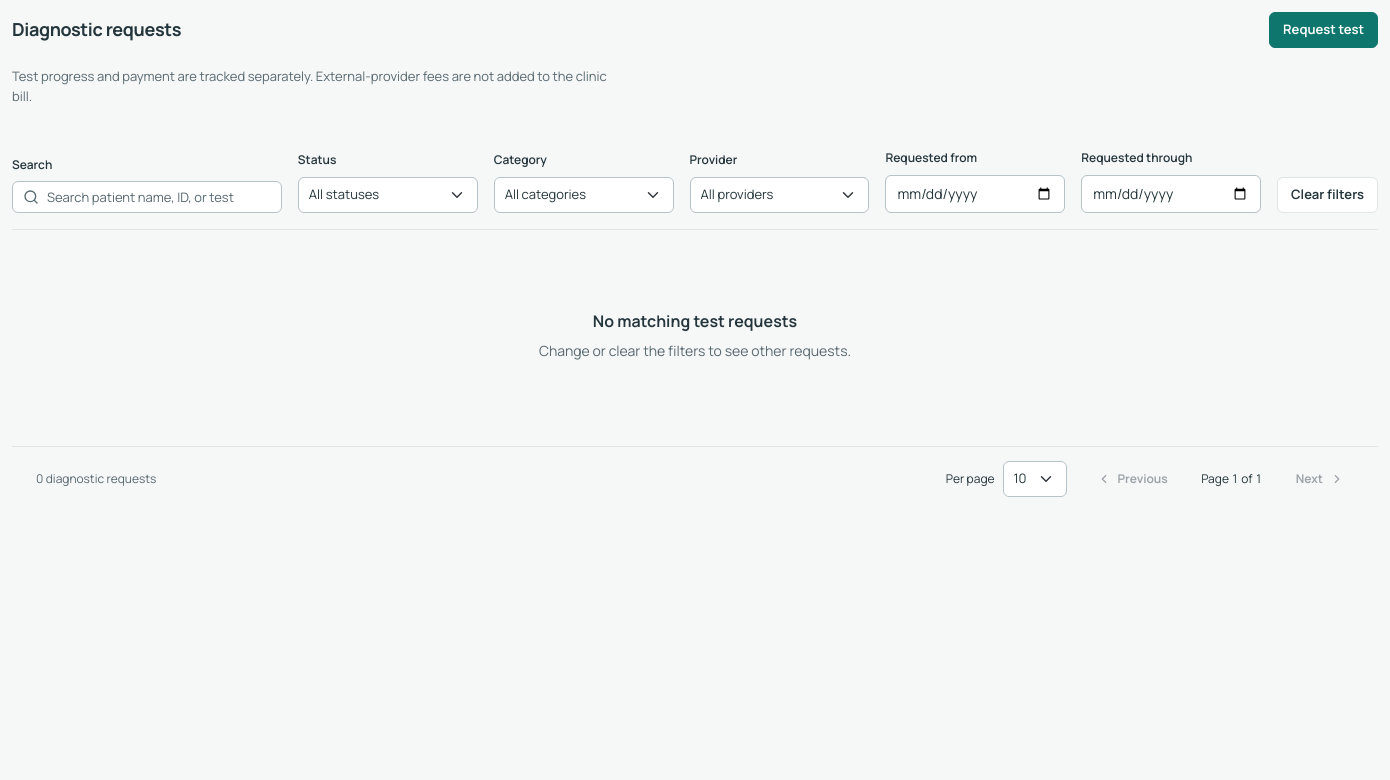
Test: shows a duplicate warning and restricts the repeat override for staff
The width and height of the screenshot is (1390, 780).
Click the button "Request test" at (1324, 30), box [1269,12,1378,48]
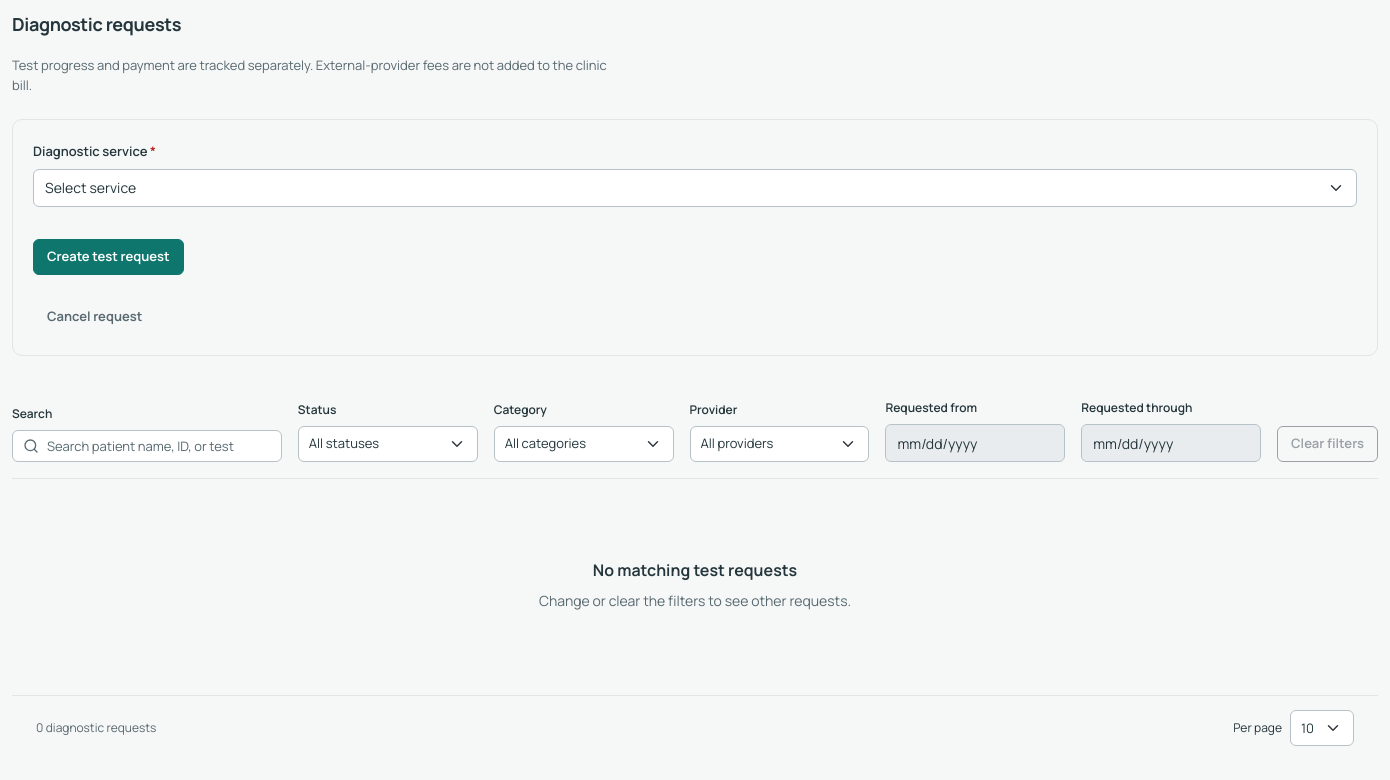
Select "Chest X-ray · ₱300.00" in the dropdown labelled "Diagnostic service *" at (695, 188), box [33,169,1357,207]
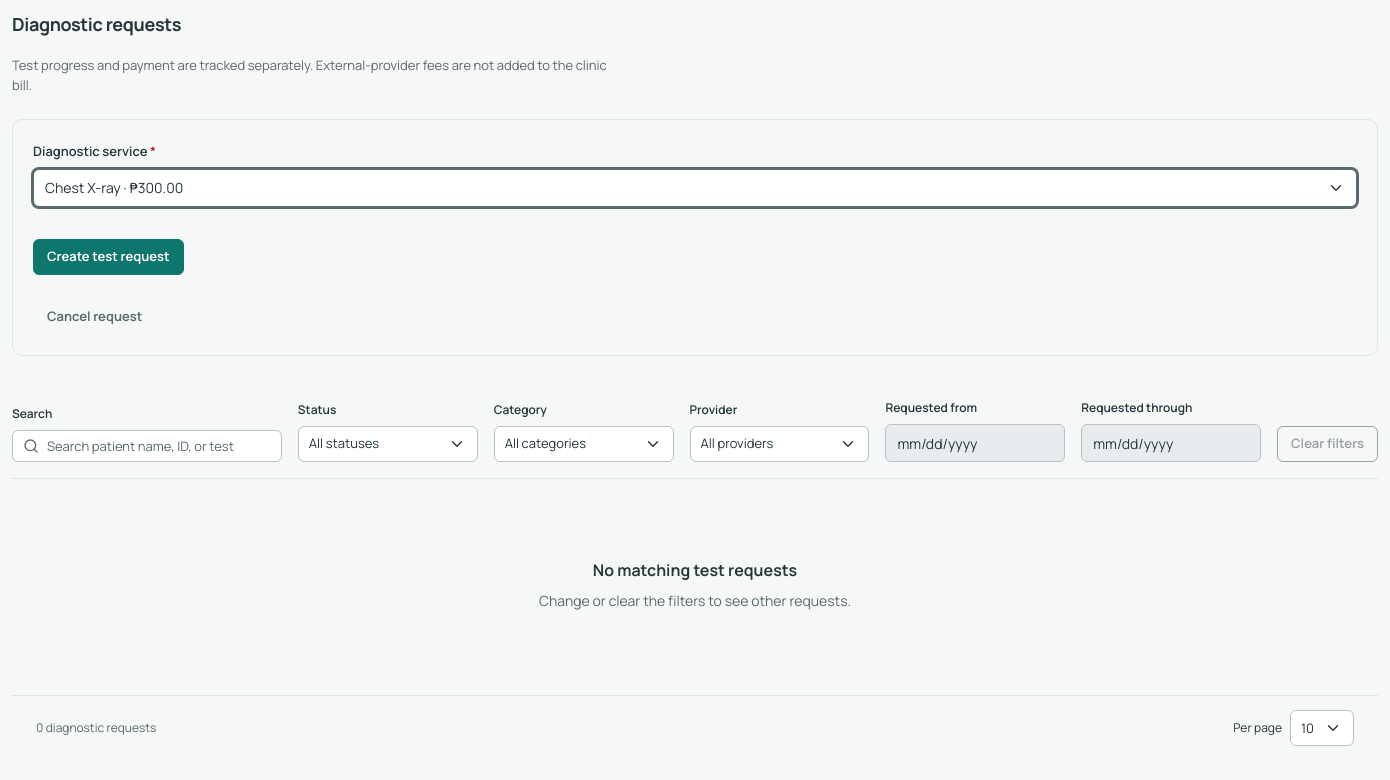
Click the button "Create test request" at (108, 257), box [33,239,184,275]
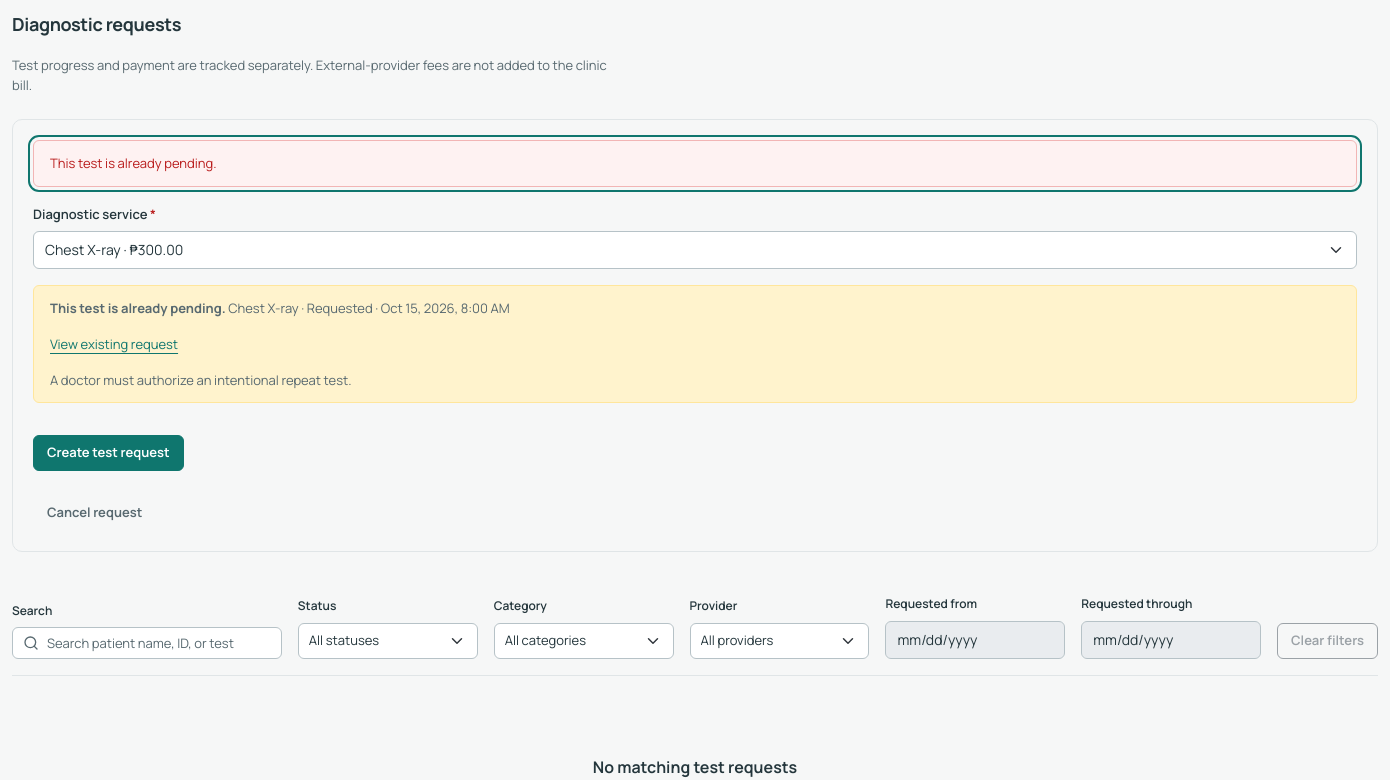
Now the text "A doctor must authorize an intentional repeat test." is shown, box [50,371,352,389]
